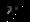person: (9, 4, 19, 17)
